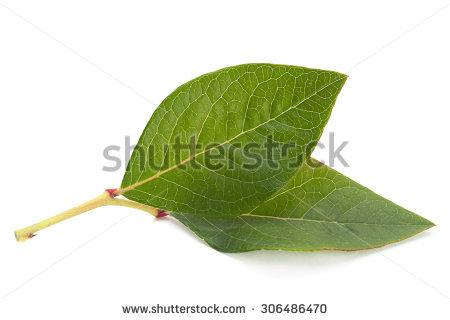Blueberry leaf: (121, 62, 450, 264)
